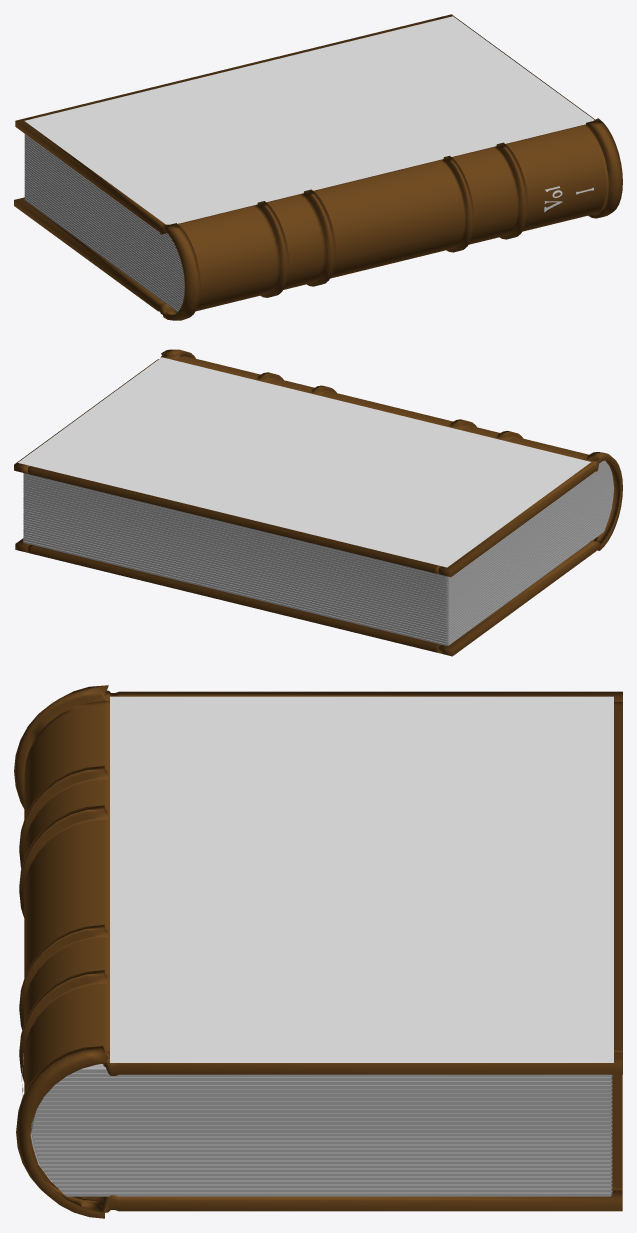
The model's file is book.glb.
3 renders of one model, top to bottom at view 1: azimuth 30°, elevation 25°; view 2: azimuth 150°, elevation 25°; view 3: azimuth 270°, elevation 25°, orthographic. The views are drawn at different scales.
Visible parts, largest first — view 1: front, cover, pages, Text; view 2: front, pages, cover, Text; view 3: front, pages, cover, Text, Text.001.
Part boxes in pixels (box(x1,y1,x2,y2)): front: box(24, 16, 594, 224); cover: box(14, 14, 622, 320); pages: box(24, 134, 184, 312); Text: box(206, 91, 338, 159); front: box(18, 357, 590, 567); pages: box(23, 460, 614, 645); cover: box(14, 349, 622, 656); Text: box(273, 434, 420, 498); front: box(110, 696, 613, 1062); pages: box(30, 1064, 612, 1196); cover: box(14, 685, 622, 1218); Text: box(222, 798, 509, 868); Text.001: box(317, 970, 395, 1025).
Bounding box in the file's own units: 10.67 × 2.19 × 7.35.
